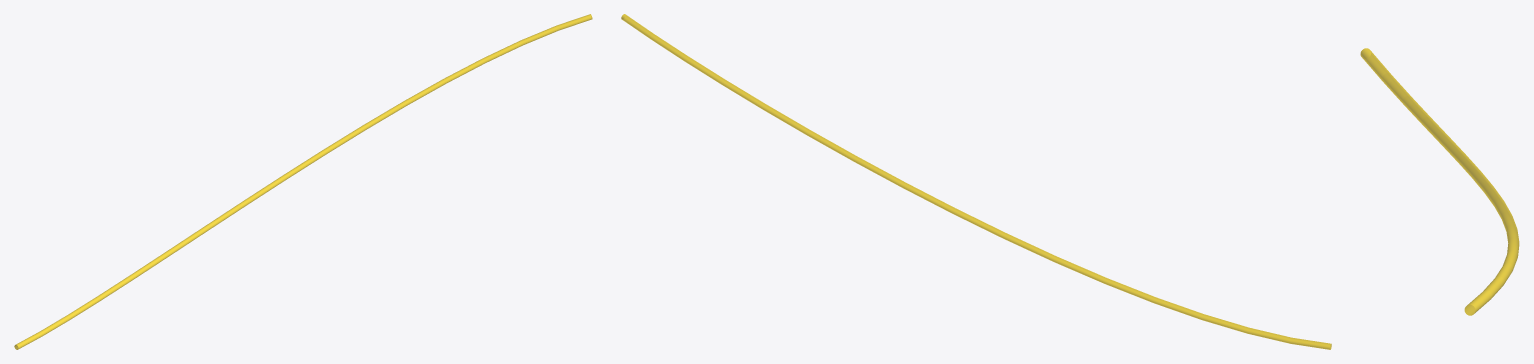
Rendered from Event_84804159_track_109.fbx.
The picture shows the model from 3 angles, left to right: view 1: azimuth 30°, elevation 25°; view 2: azimuth 150°, elevation 25°; view 3: azimuth 270°, elevation 25°; orthographic projection. The views are drawn at different scales.
Visible parts, largest first — view 1: Model; view 2: Model; view 3: Model.
Boxes of the visible parts, x1,y1,x2,y2 form: Model: [14, 14, 592, 349]; Model: [621, 14, 1331, 349]; Model: [1360, 48, 1519, 315].
Bounding box in the file's own units: 4.93 × 1.33 × 0.5634.
